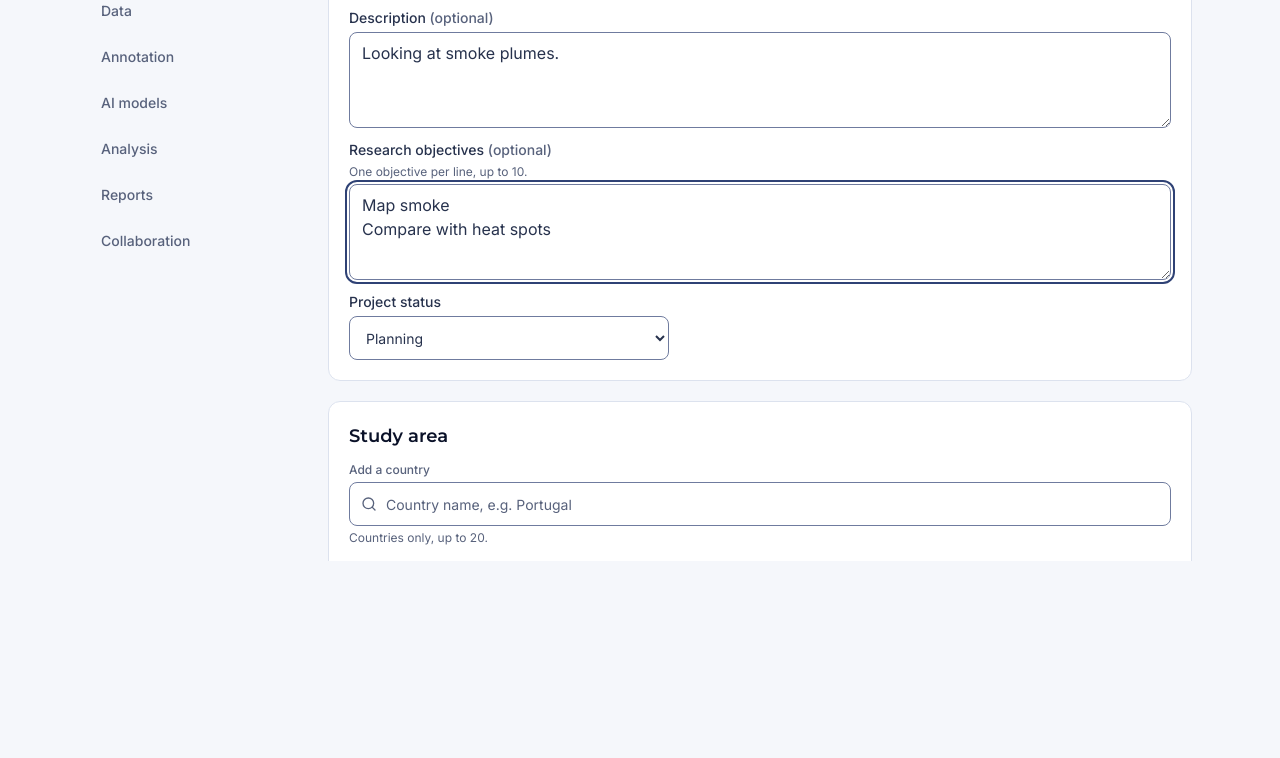
research project pages › create: title required (error summary takes focus), then saved and shown on its details page
Earlier steps of the test are not shown.
(page scrolled)
Step 1. Select "In progress" in the dropdown labelled "Project status" → (509, 338), box 349,316 -> 669,360
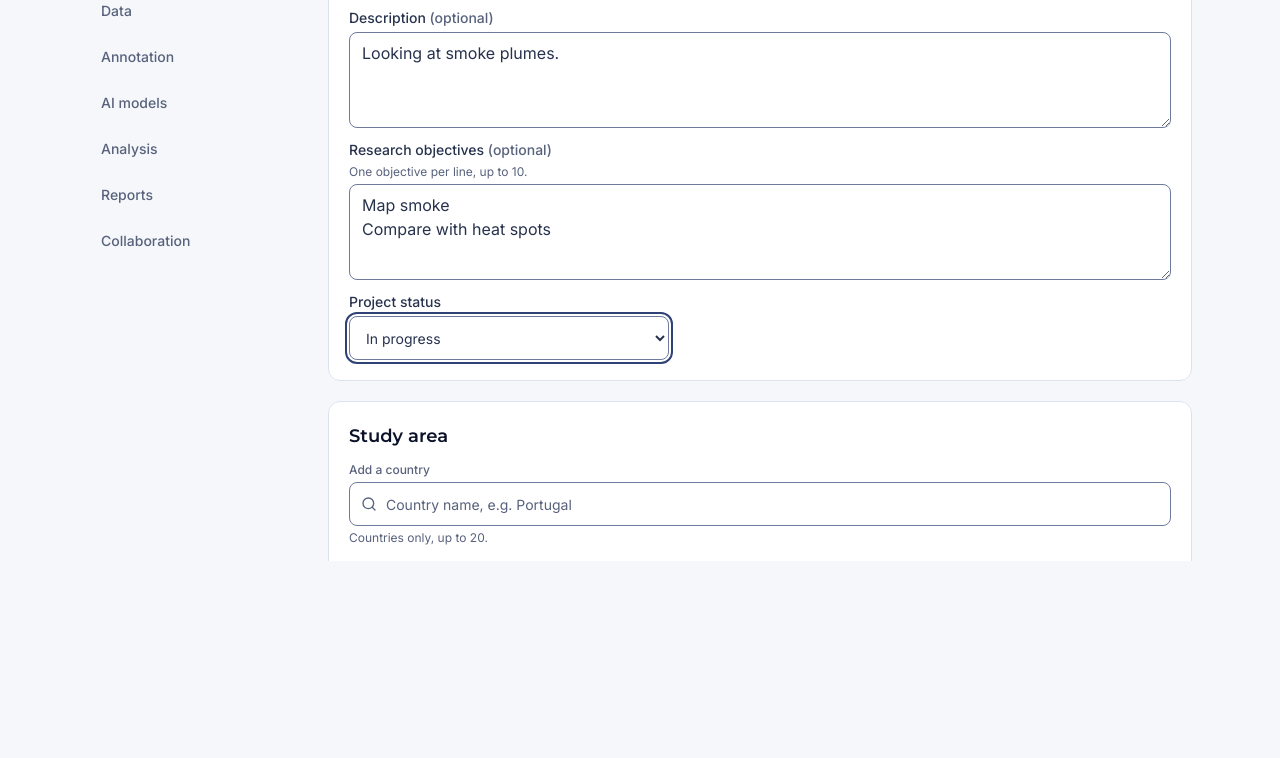
Step 2. Type "Portug" into the dropdown labelled "Add a country" → (760, 504), box 349,482 -> 1171,526
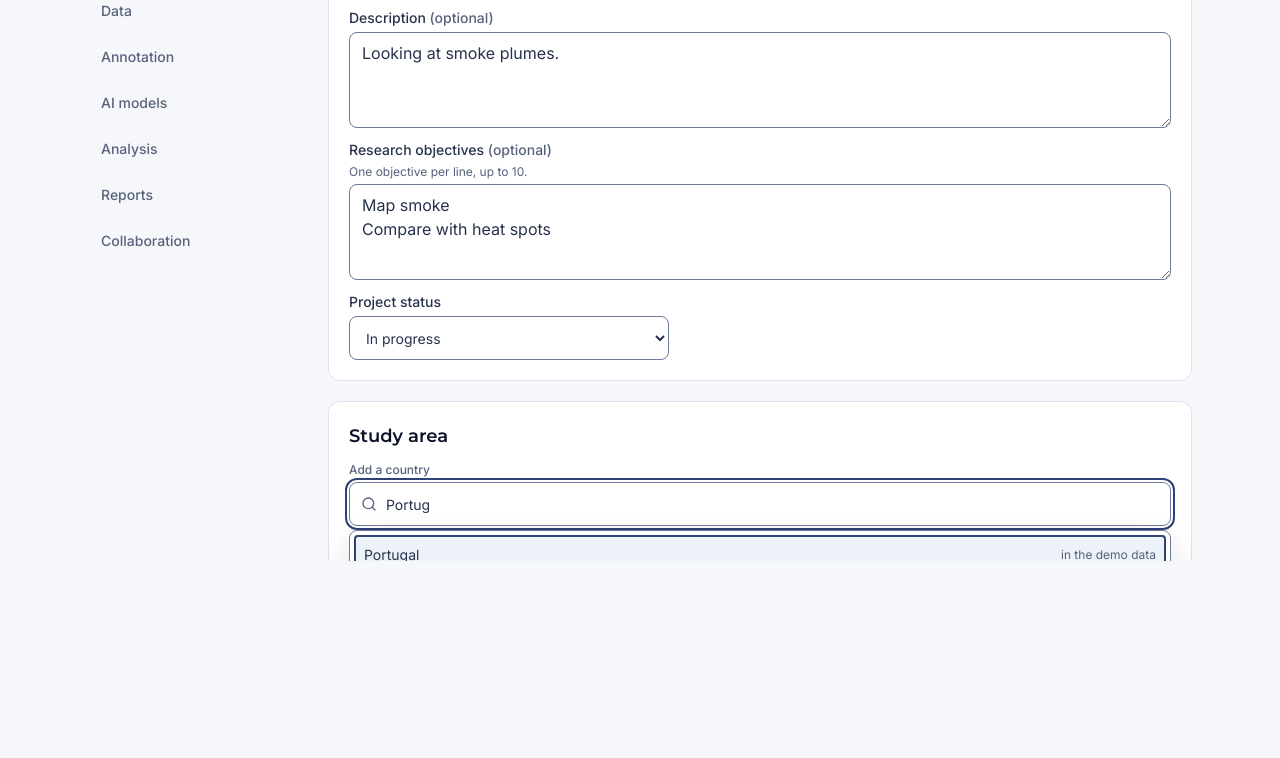
Step 3. Press Enter
(page scrolled)
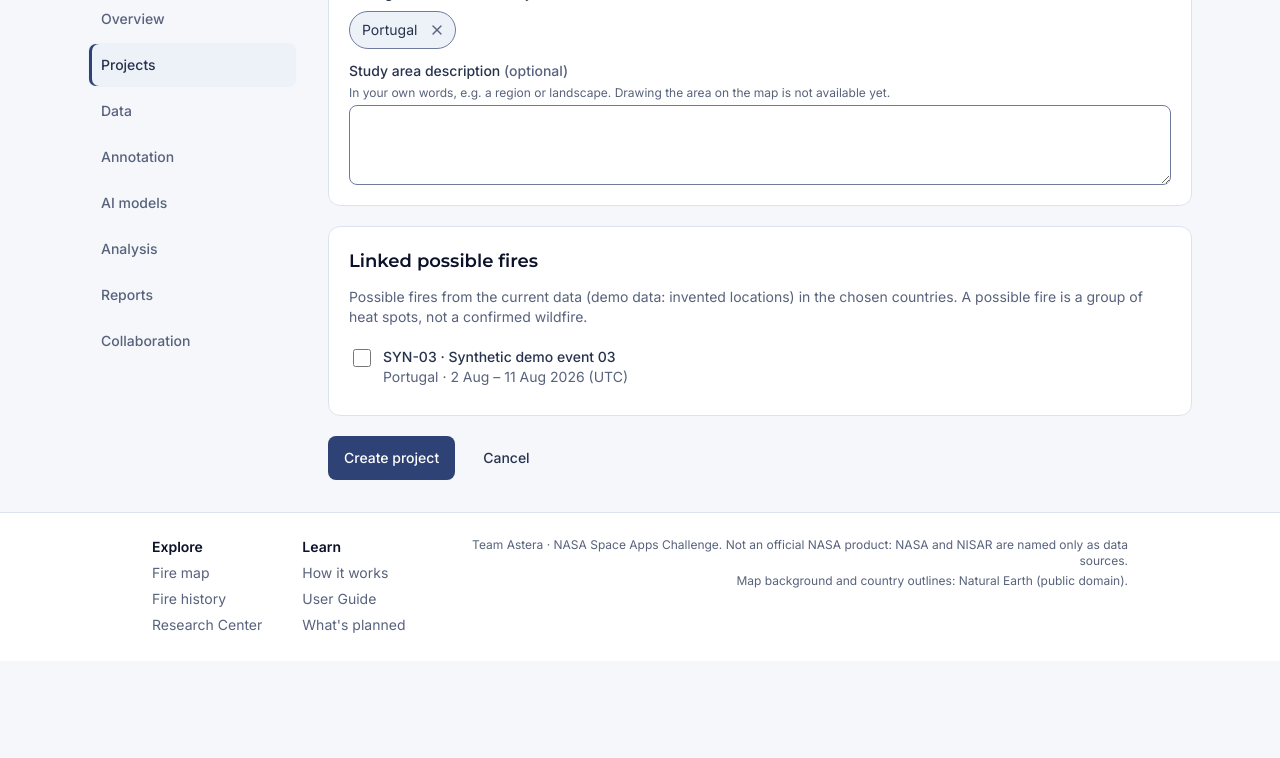
Expected: the list item "Portugal" is shown, 349,11 -> 456,49
Step 4. Click the checkbox labelled "SYN-03" → click(362, 358), box 353,349 -> 371,367
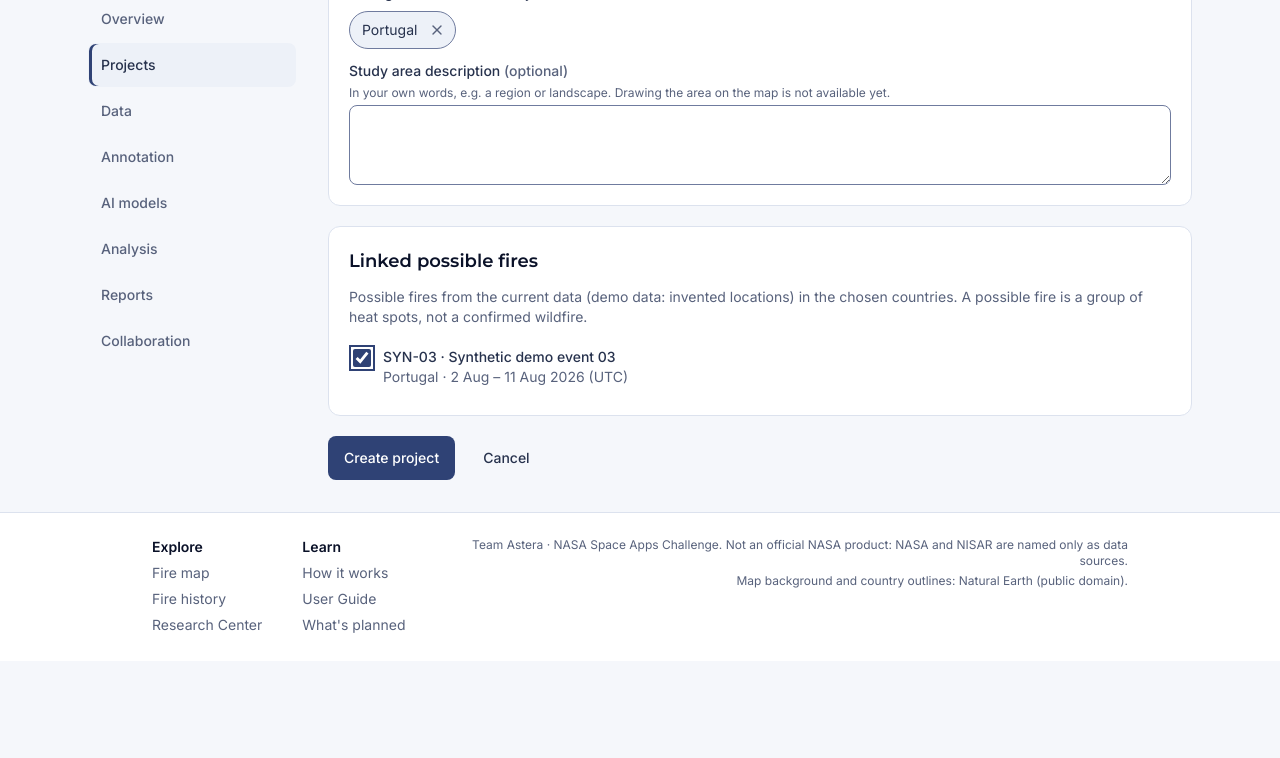
Step 5. Click the button "Create project" → click(392, 458), box 328,436 -> 455,480
(page scrolled)
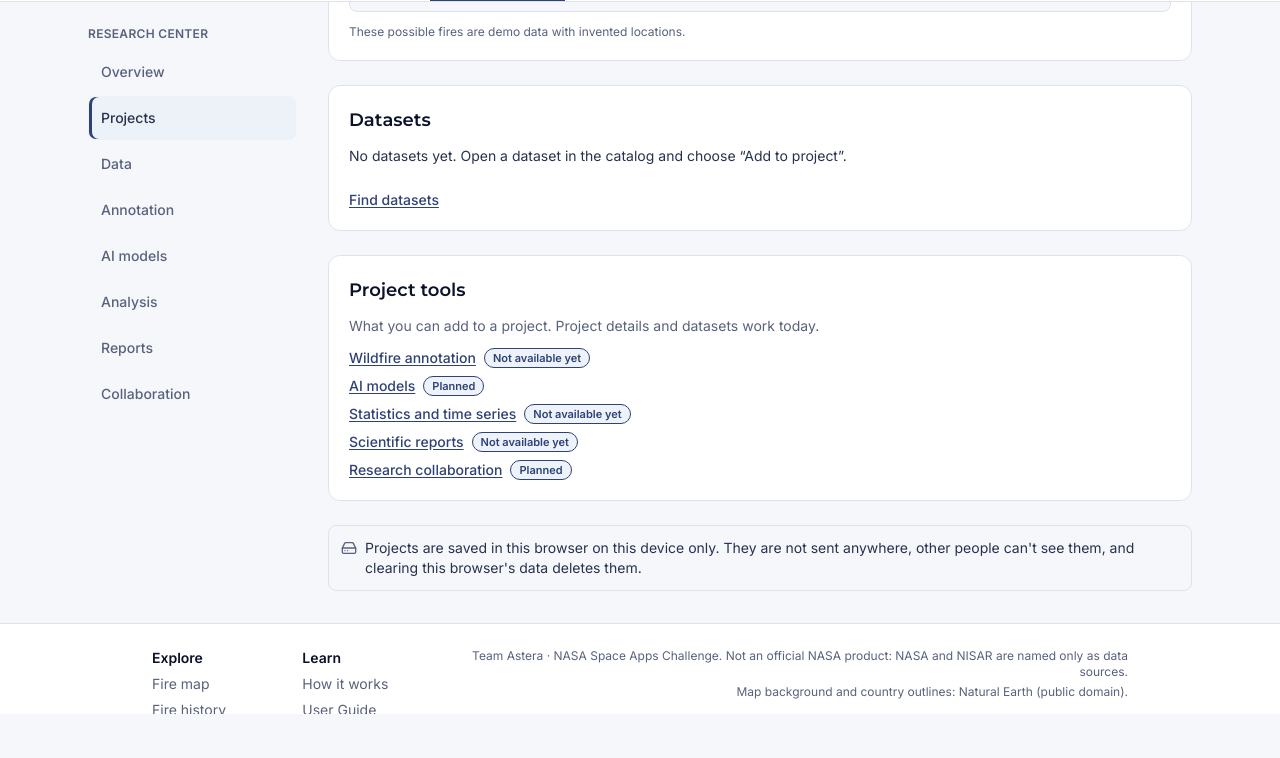
Expected: the text "Not available yet" next to "Wildfire annotation" is shown, 493,351 -> 581,365
Expected: the text "Planned" is shown 2 times, 423,376 -> 484,396; 510,460 -> 572,480
